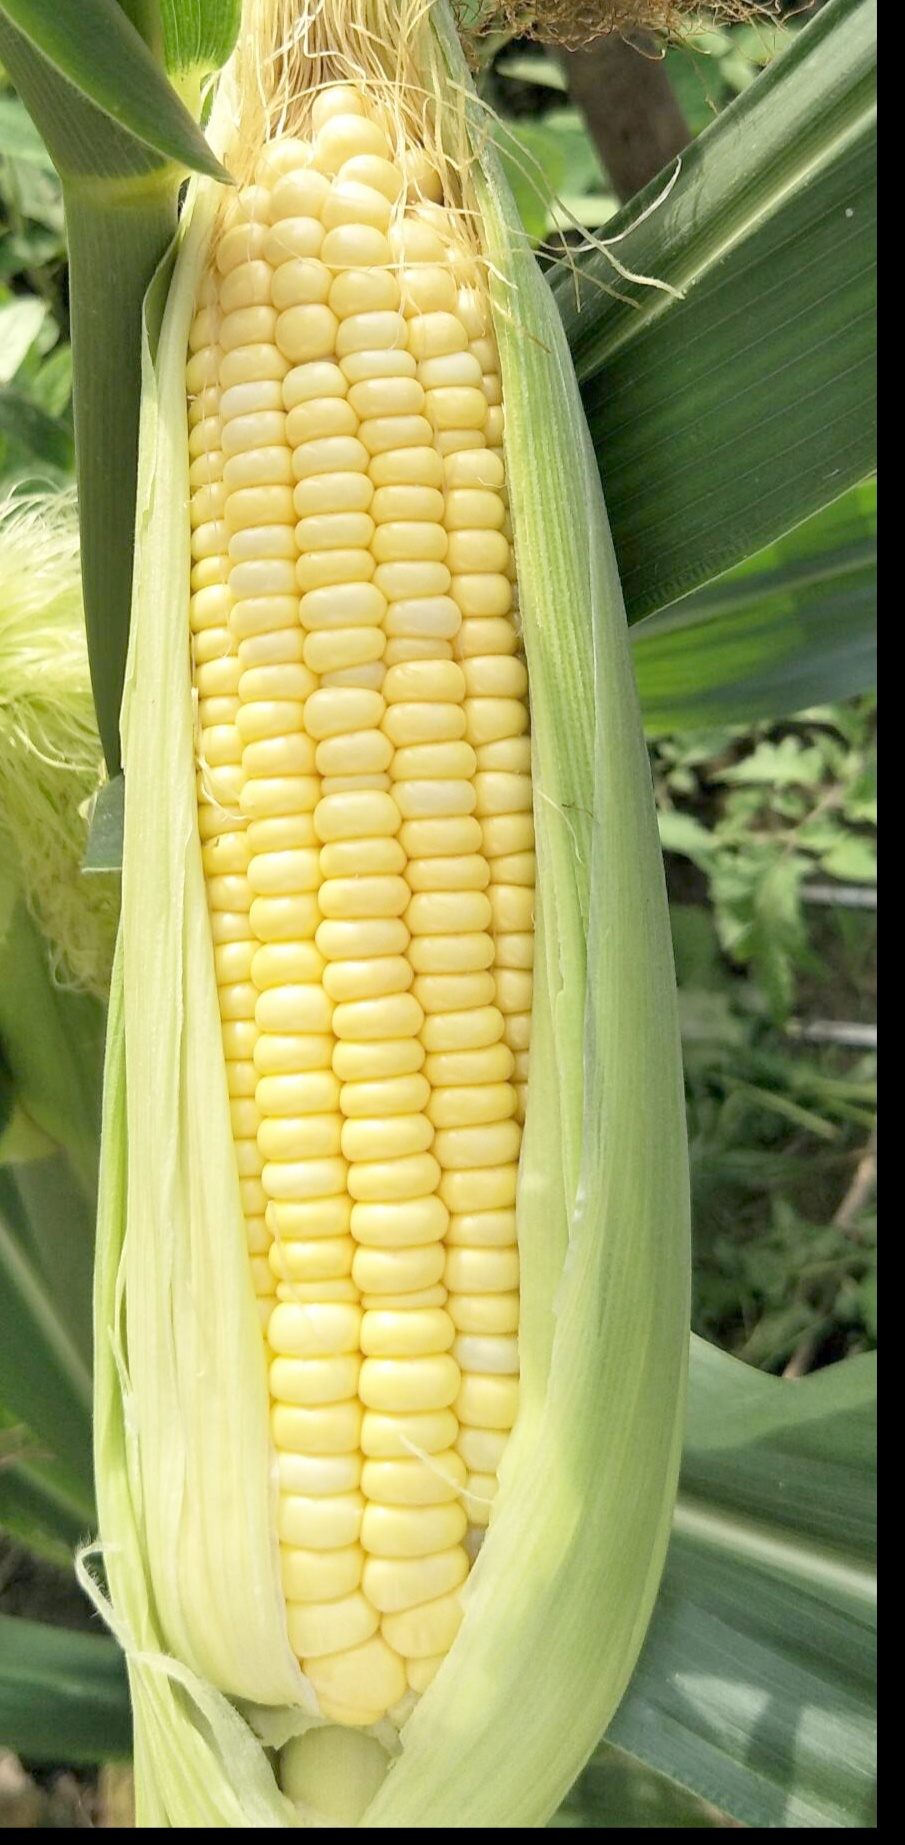corn: (99, 55, 687, 1827)
